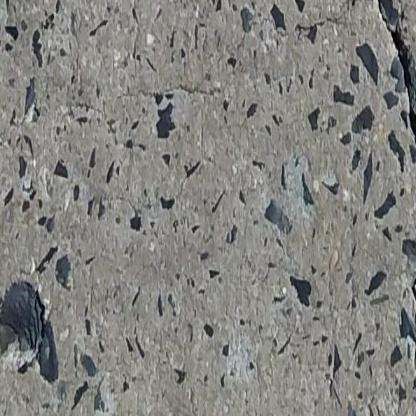Cracks: (368, 0, 416, 400)
